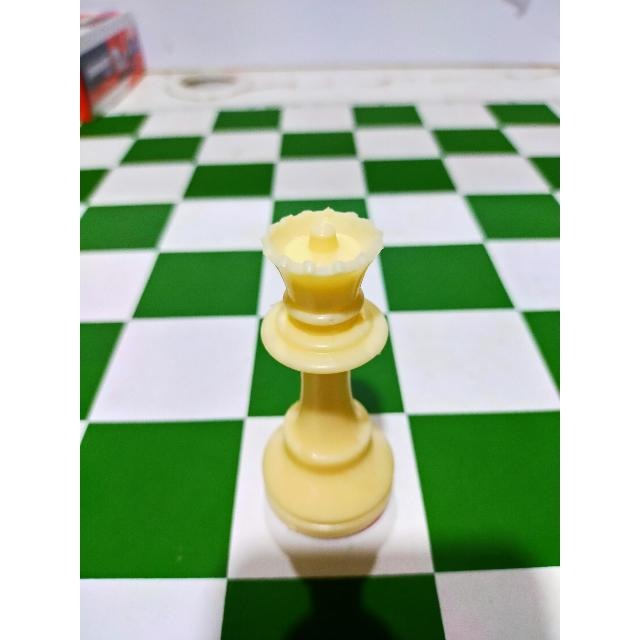white-queen: (244, 195, 408, 546)
